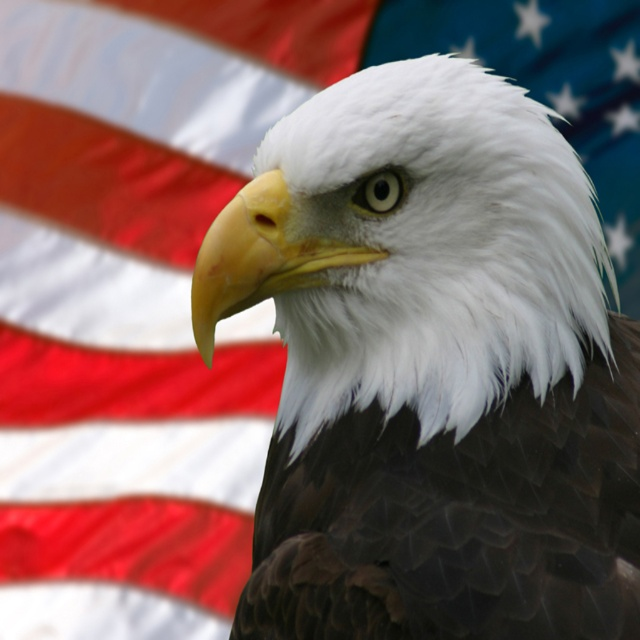Eagle: (190, 53, 639, 639)
